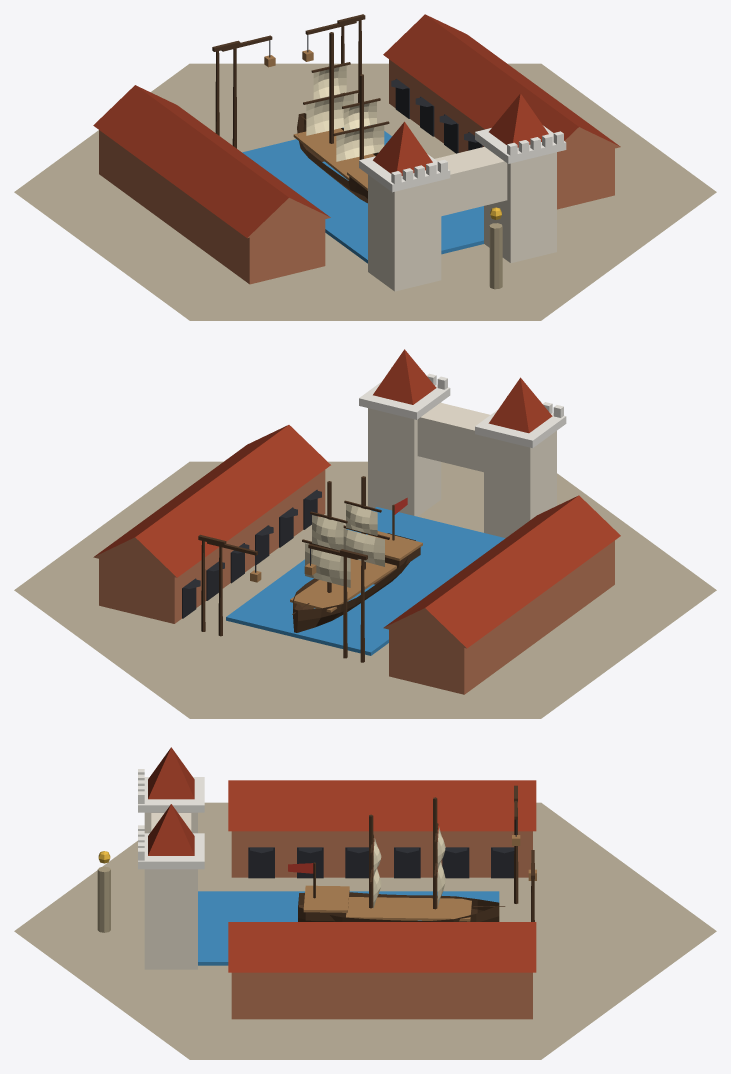
File: wonder_venetian_arsenal.fbx
The picture shows the model from 3 angles, top to bottom: view 1: azimuth 30°, elevation 25°; view 2: azimuth 150°, elevation 25°; view 3: azimuth 270°, elevation 25°; orthographic projection.
Visible parts, largest first — view 1: wonder_venetian_arsenal; view 2: wonder_venetian_arsenal; view 3: wonder_venetian_arsenal.
Part boxes in pixels (x1=…): wonder_venetian_arsenal: x1=14, y1=14, x2=716, y2=320; wonder_venetian_arsenal: x1=14, y1=349, x2=716, y2=718; wonder_venetian_arsenal: x1=14, y1=747, x2=716, y2=1059.
Size of the model in its own units: 182 by 51.4 by 210.
